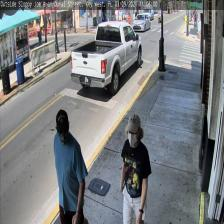person: (53, 109, 88, 224), (119, 112, 151, 224)
